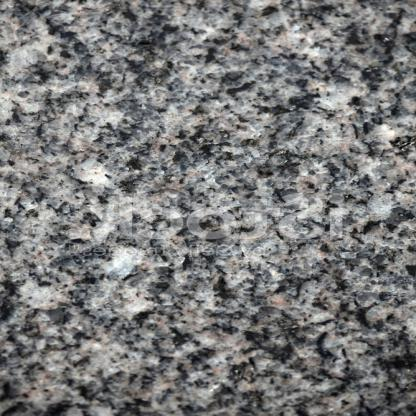Igneous_Granite: (0, 0, 411, 416)
